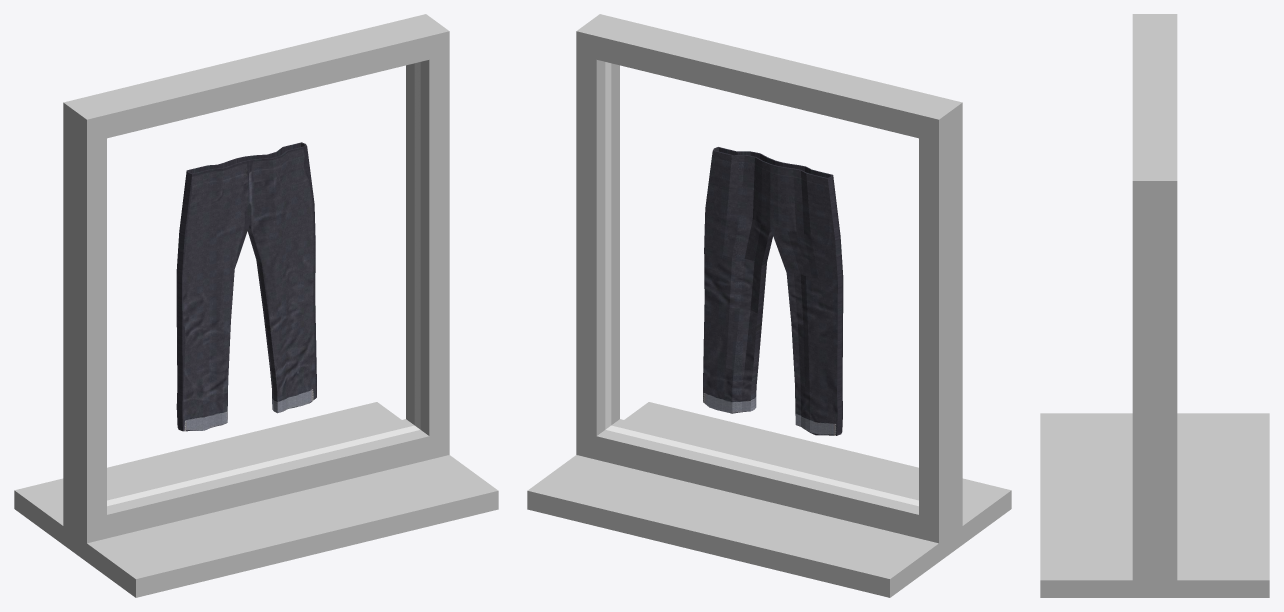
Rendered from jack_o_denim.glb.
3 views of the same model, side by side, from view 1: azimuth 30°, elevation 25°; view 2: azimuth 150°, elevation 25°; view 3: azimuth 270°, elevation 25° (orthographic). The views are drawn at different scales.
Visible parts, largest first — view 1: Cube.036, Plane.010; view 2: Cube.036, Plane.010; view 3: Cube.036.
Boxes of the visible parts, x1,y1,x2,y2 form: Cube.036: [14, 14, 498, 597]; Plane.010: [176, 142, 316, 431]; Cube.036: [527, 14, 1011, 597]; Plane.010: [703, 147, 843, 435]; Cube.036: [1040, 14, 1269, 597].
Bounding box in the file's own units: 0.6242 × 0.7276 × 0.362.
3 materials, 1 textured.
